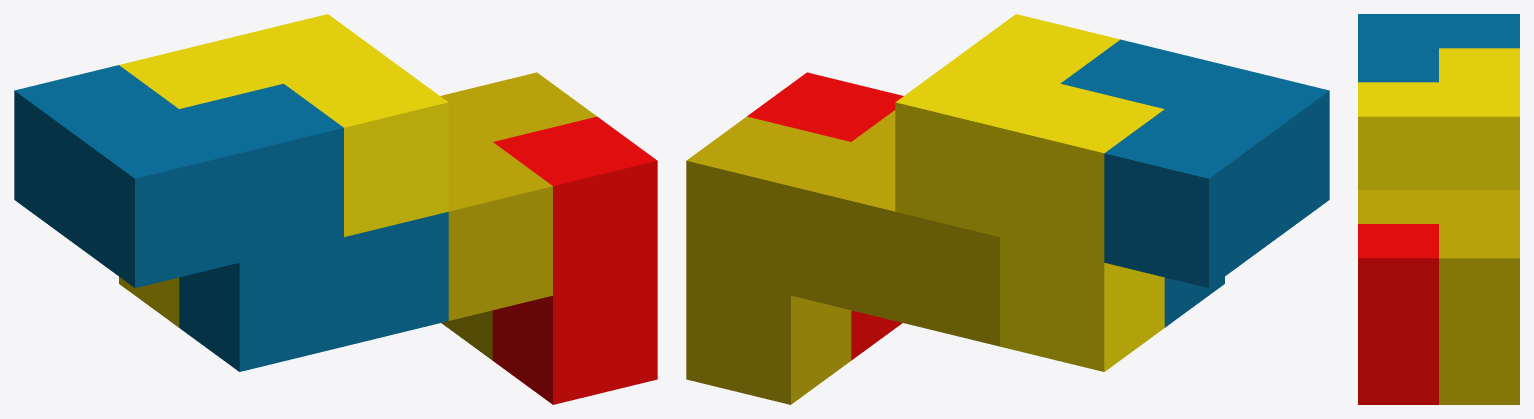
The picture shows the model from 3 angles, left to right: view 1: azimuth 30°, elevation 25°; view 2: azimuth 150°, elevation 25°; view 3: azimuth 270°, elevation 25°; orthographic projection. The views are drawn at different scales.
Parts seen in each view (by area): view 1: mergedBlocks(Clone); view 2: mergedBlocks(Clone); view 3: mergedBlocks(Clone).
Boxes of the visible parts, bbox=[...] form: mergedBlocks(Clone): bbox=[14, 14, 657, 404]; mergedBlocks(Clone): bbox=[686, 14, 1329, 404]; mergedBlocks(Clone): bbox=[1358, 14, 1519, 404].
Bounding box in the file's own units: 5 × 3 × 2.
Materials: 4 (4 with a texture image).
